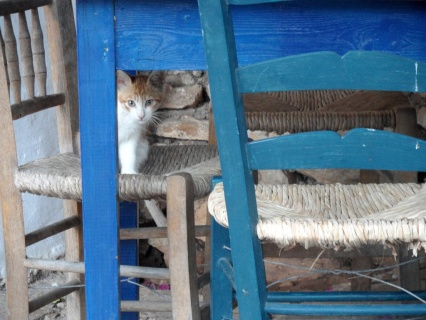Cat: (72, 69, 165, 172)
